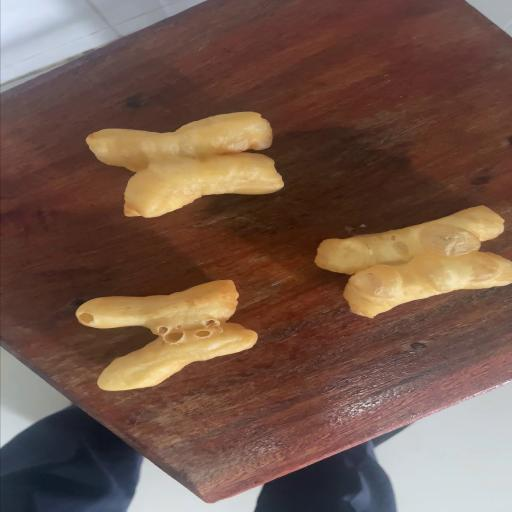street_golden_defect: (314, 207, 510, 316), (74, 280, 258, 390)
street_golden_good: (85, 113, 284, 217)
